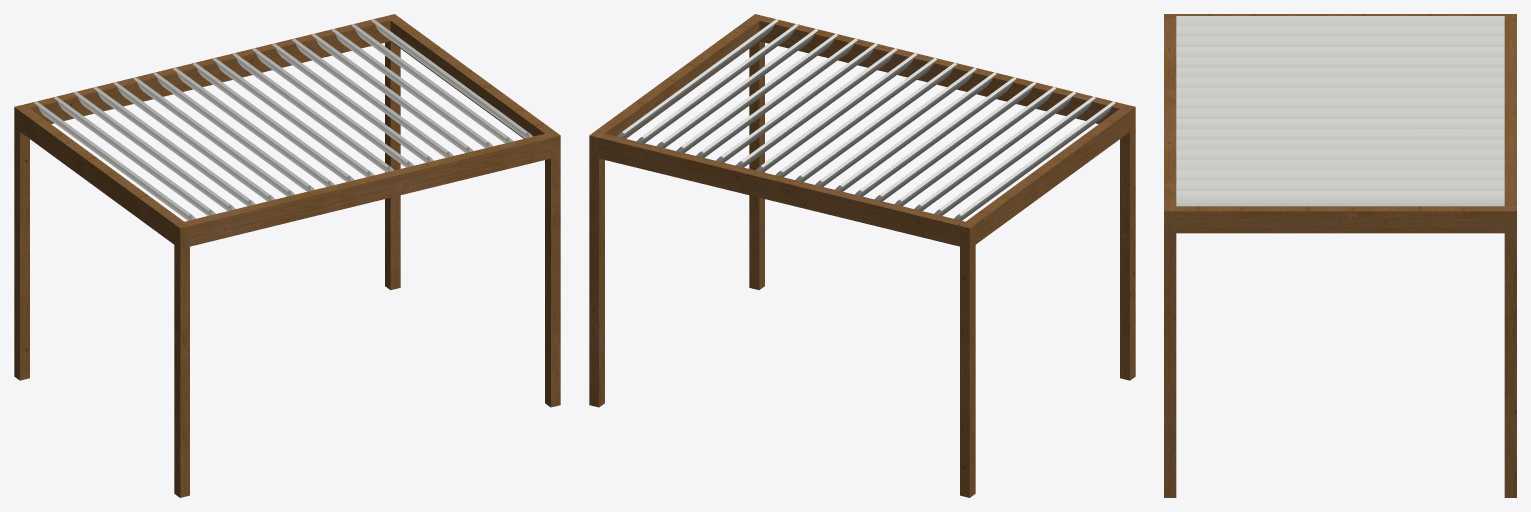
Rendered from psr_dokuritu-2k9s_naturalpine.fbx.
The picture shows the model from 3 angles, left to right: view 1: azimuth 30°, elevation 25°; view 2: azimuth 150°, elevation 25°; view 3: azimuth 270°, elevation 25°; orthographic projection. The views are drawn at different scales.
Visible parts, largest first — view 1: psr_dokuritu-2k9s_naturalpine; view 2: psr_dokuritu-2k9s_naturalpine; view 3: psr_dokuritu-2k9s_naturalpine.
Boxes of the visible parts, x1,y1,x2,y2 form: psr_dokuritu-2k9s_naturalpine: (14,14,560,497); psr_dokuritu-2k9s_naturalpine: (589,14,1135,497); psr_dokuritu-2k9s_naturalpine: (1164,14,1516,497).
Size of the model in its own units: 384 by 266 by 290.
Materials: 2 (1 with a texture image).
